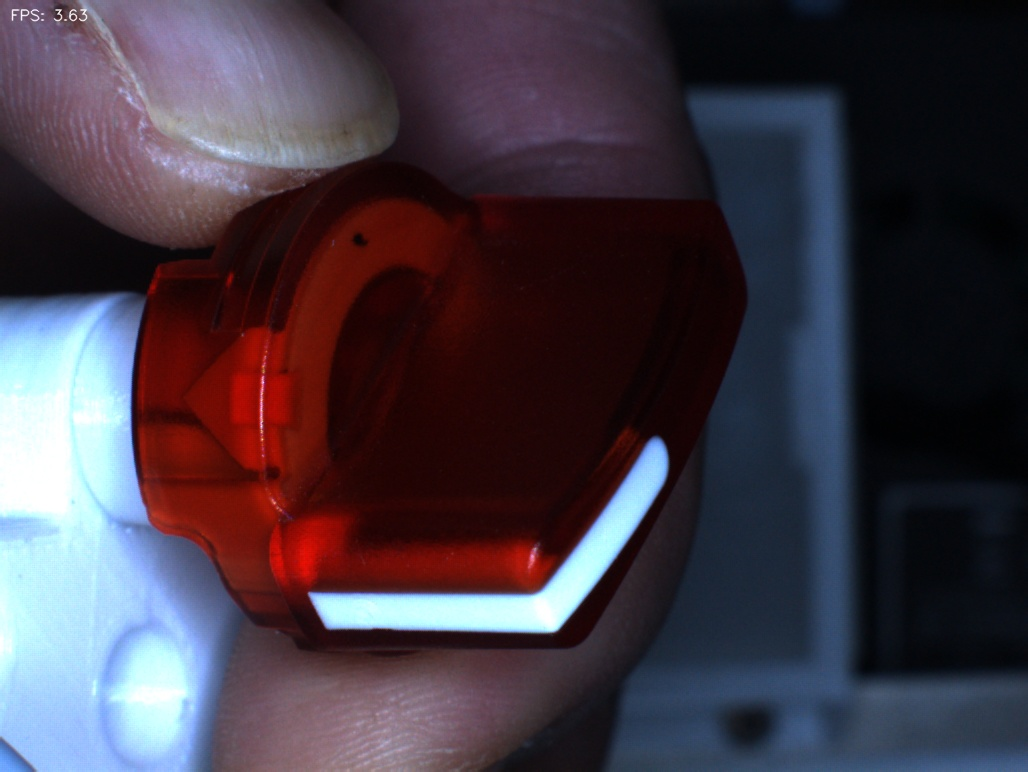PointNoir: (320, 203, 396, 283)
